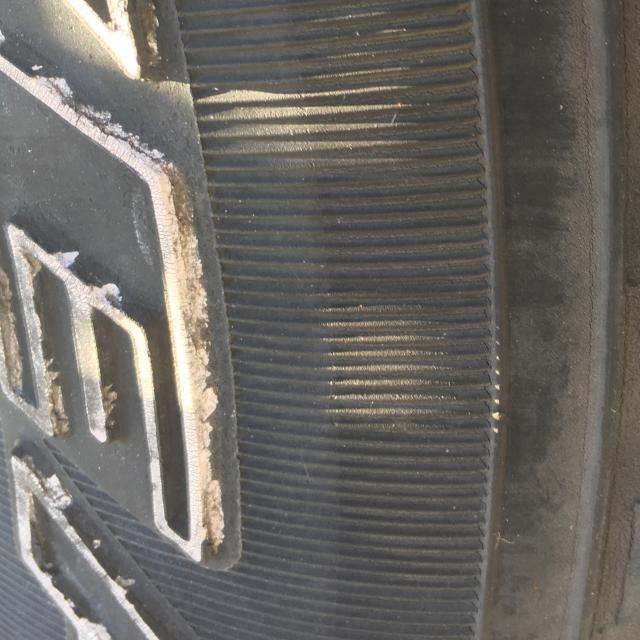Non-defective: (247, 0, 549, 640)
